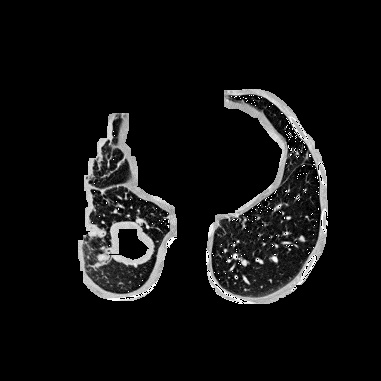PN: (299, 236, 303, 240)
